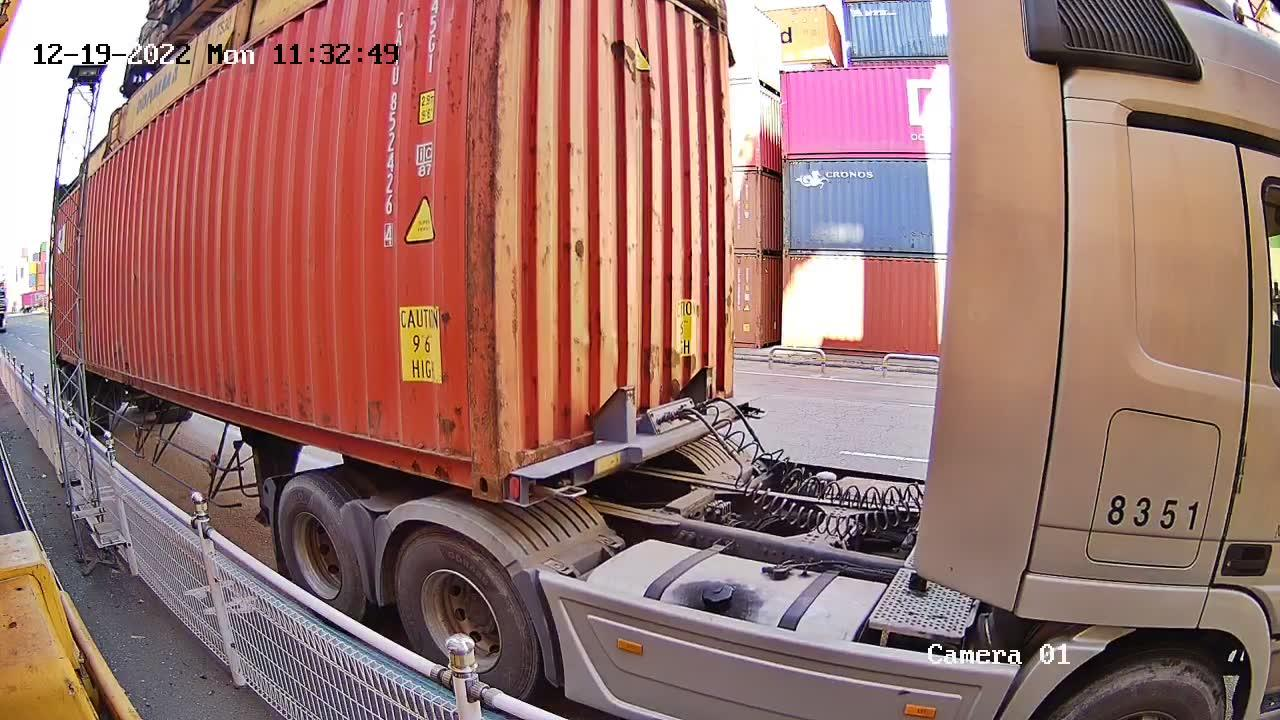Chassis: (500, 396, 750, 508)
Cone: (506, 477, 560, 498), (730, 403, 765, 422)
Hole_R: (444, 434, 499, 502)
Tire: (392, 533, 537, 686), (278, 478, 358, 612)
